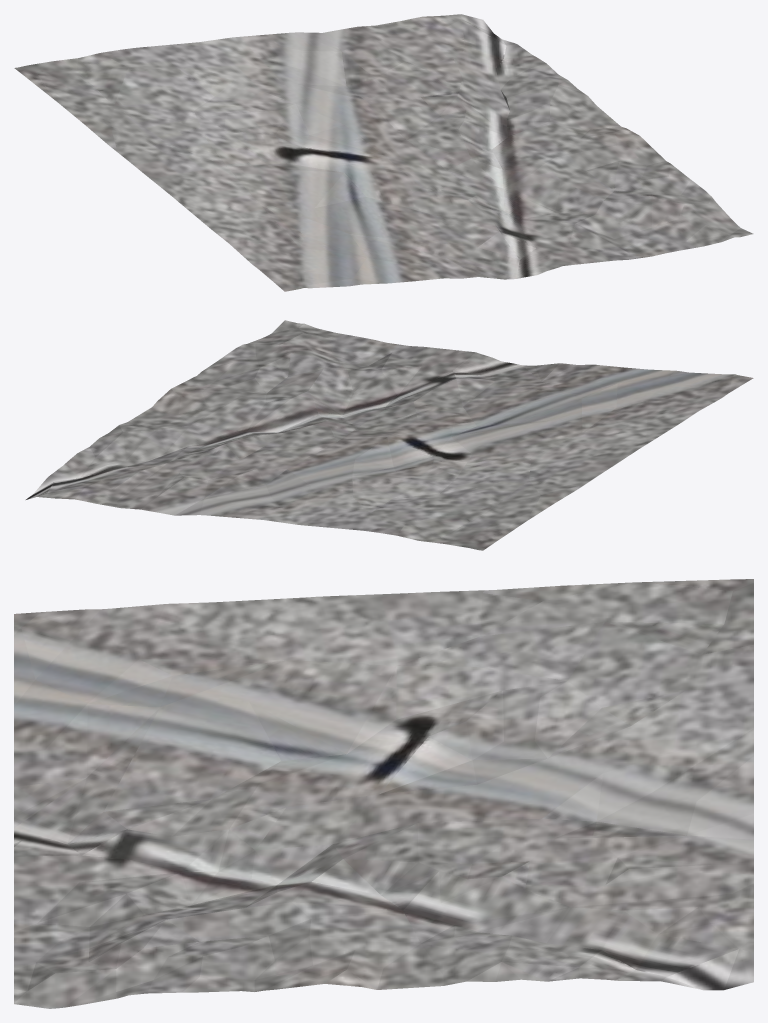
The picture shows the model from 3 angles, top to bottom: view 1: azimuth 30°, elevation 25°; view 2: azimuth 150°, elevation 25°; view 3: azimuth 270°, elevation 25°; orthographic projection. The views are drawn at different scales.
Size of the model in its own units: 0.8374 by 0.1463 by 0.8374.
3 materials, 3 textured.
